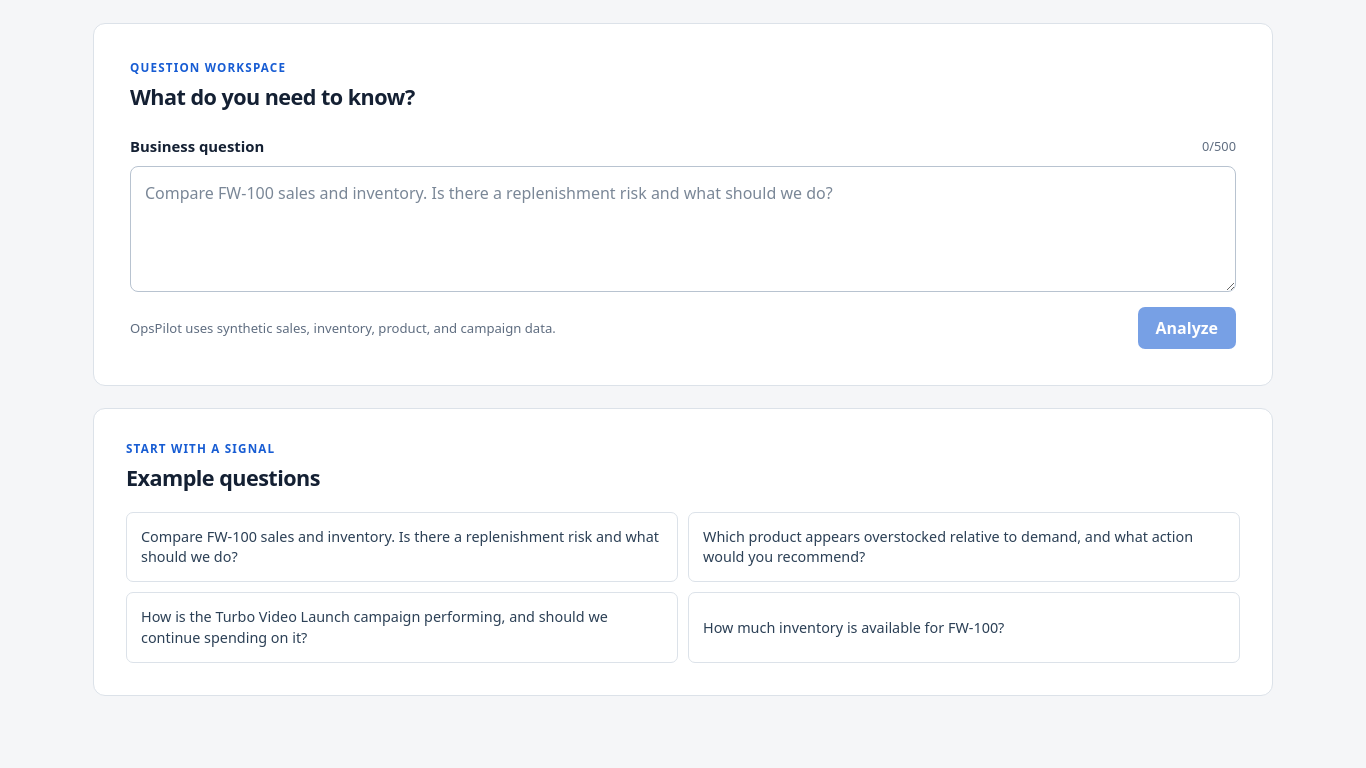
Test case: an example prompt populates the textarea
The width and height of the screenshot is (1366, 768).
(page scrolled)
Click the button "How much inventory is available for FW-100?".
click(964, 628)  # box [688,592,1240,663]
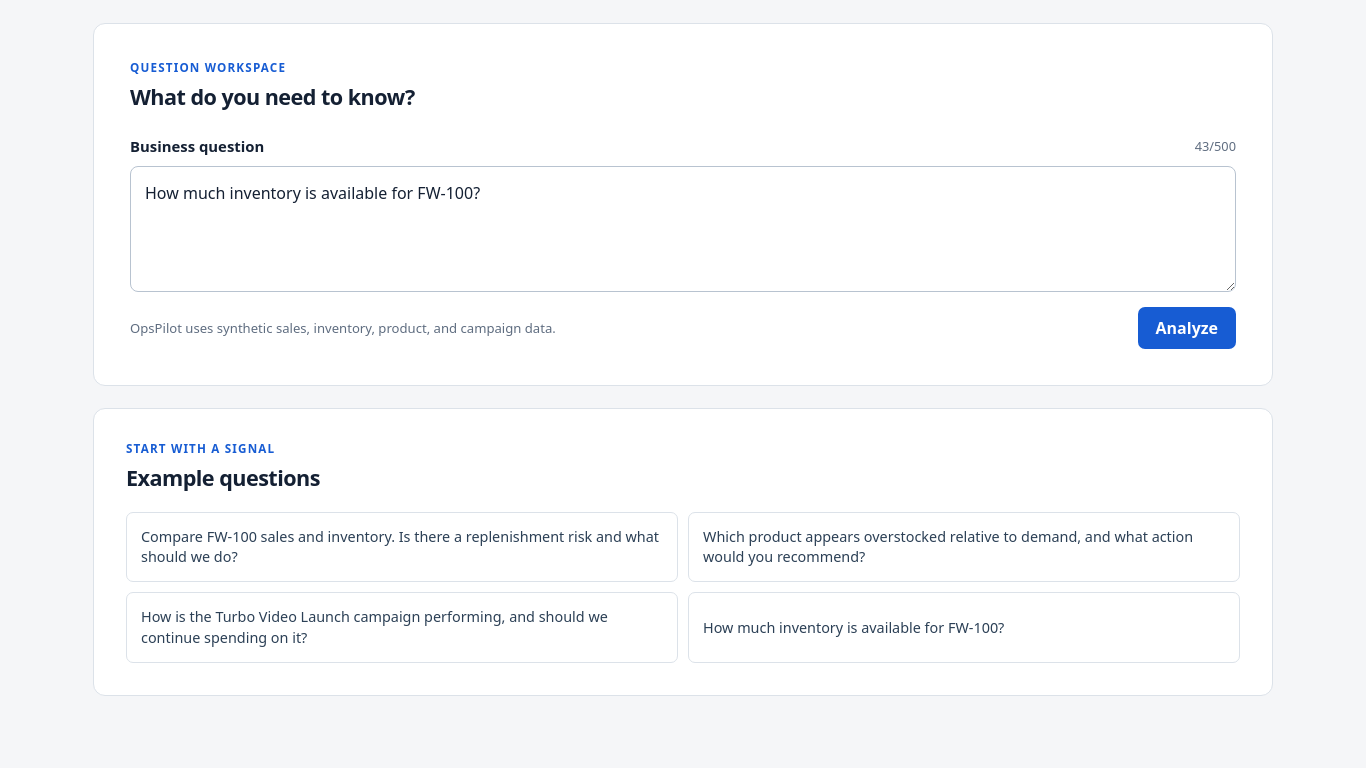
Now the text box labelled "Business question" holds "How much inventory is available for FW-100?", box [130,166,1236,292]
